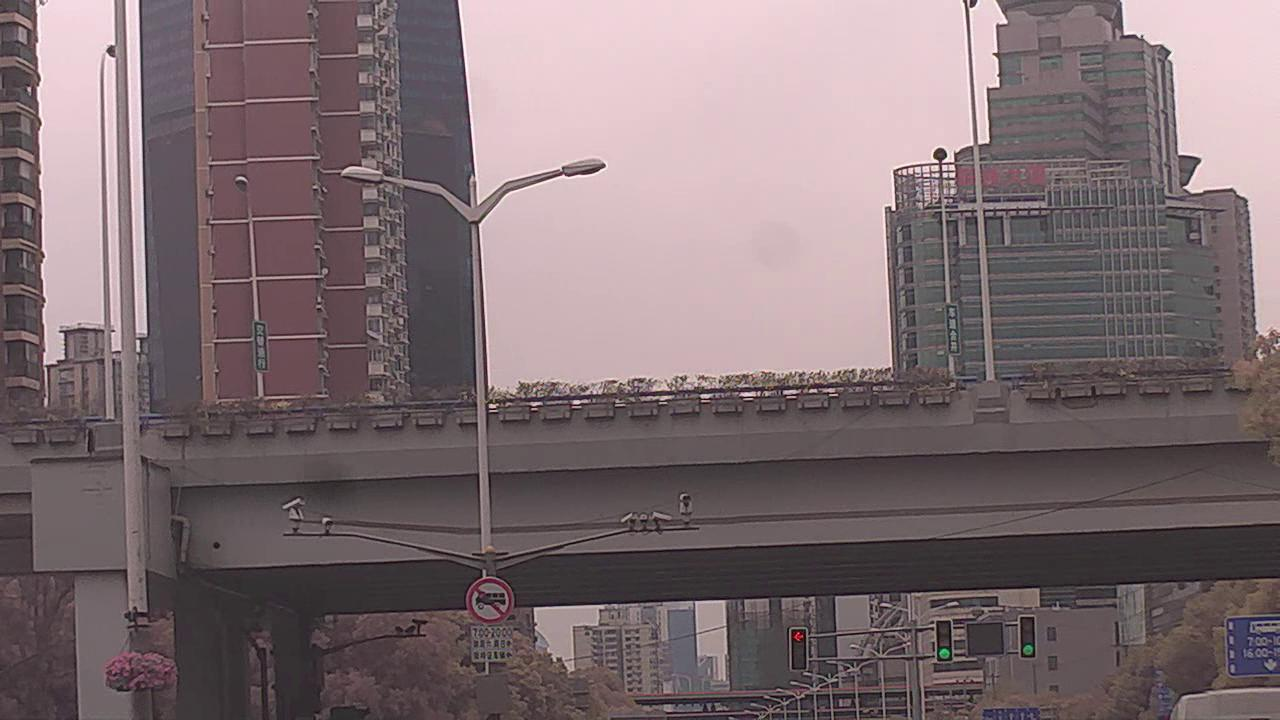traffic_light: (788, 627, 810, 670), (935, 622, 956, 665), (1018, 617, 1038, 662)
